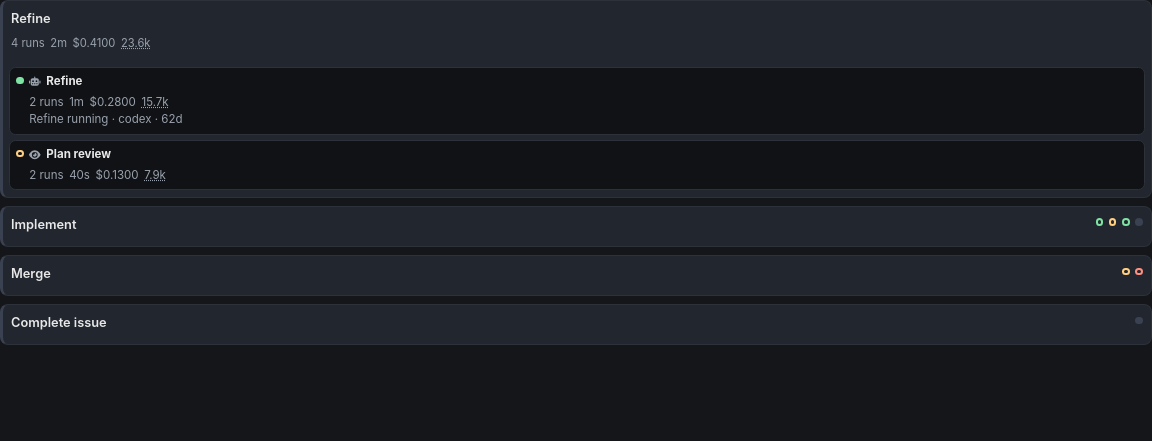
Test: WorkflowDiagramView › uses the mobile card surface to toggle stages and initially expands active stages
Expected: the text "PR merge" is not shown
Click the button "Merge": (31, 274) [11,266,1143,281]
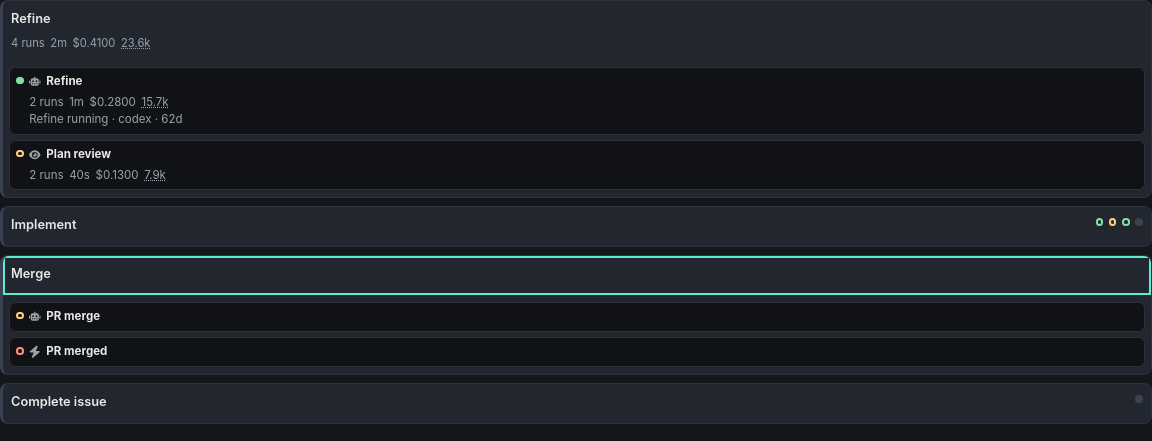
Now the picture with test id "collapsed-status-merge-merge-activity" is gone
Now the text "PR merge" is shown, box [46,308,100,326]
